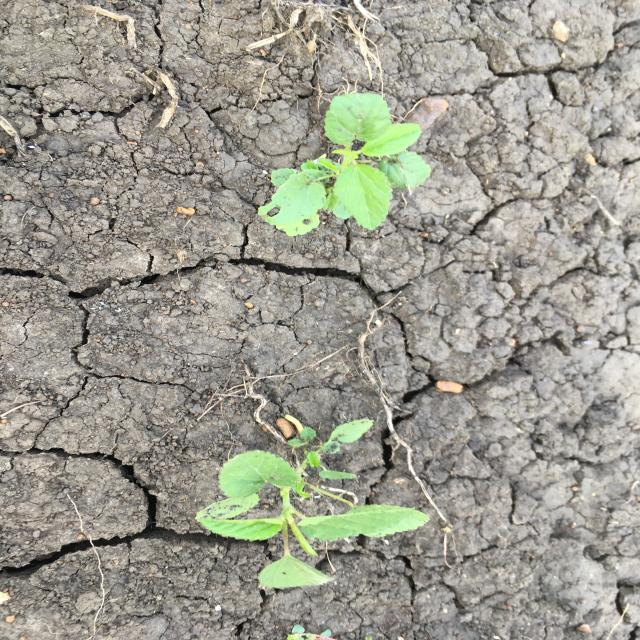PricklySida: (192, 416, 433, 591), (254, 91, 436, 238)
